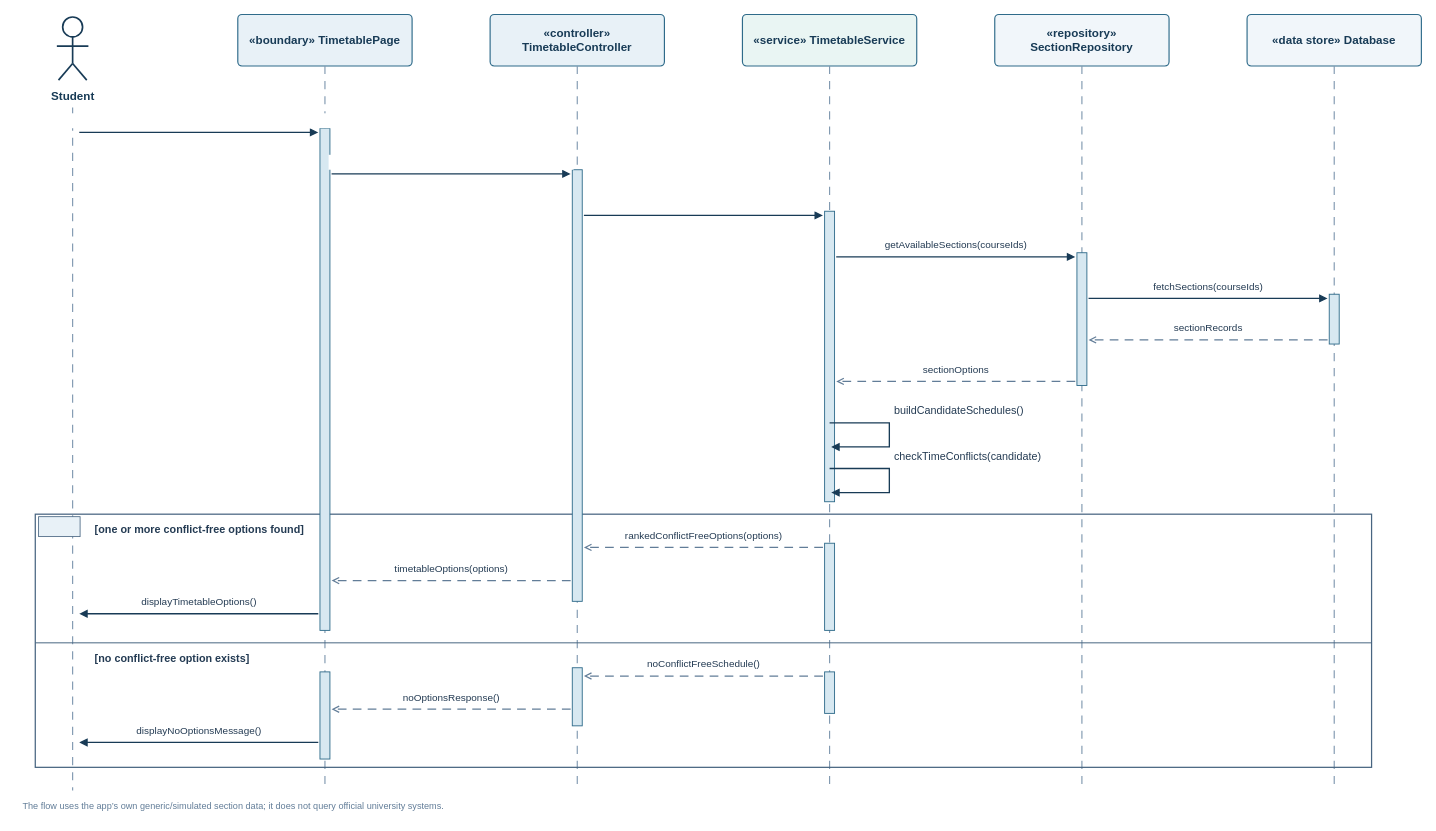
This 1436x831 diagram has some shape labels left out. The shapes that lost their labels are listed below. From the top down, each one's centre as x and y in pixels, then its label:
point (198, 120): selectCoursesAndAvailability(courseIds, preferences)
point (450, 161): generateTimetable(courseIds, preferences)
point (703, 203): generateOptions(courseIds, preferences)
point (59, 526): alt
